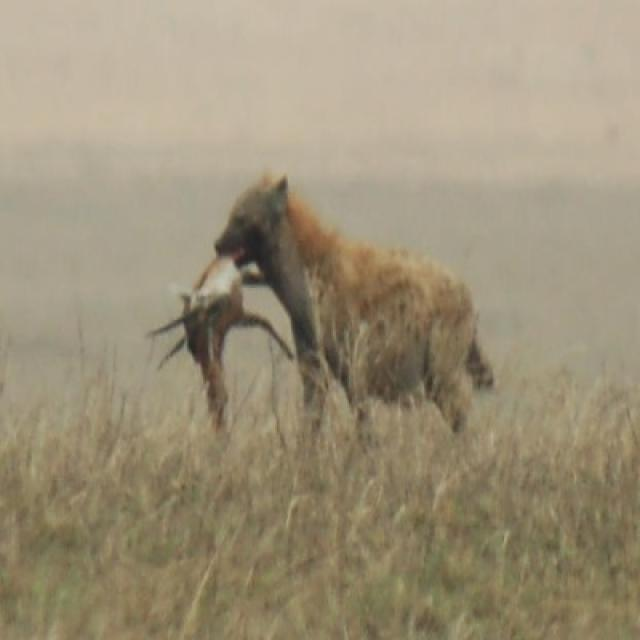hyena: (213, 173, 494, 435)
